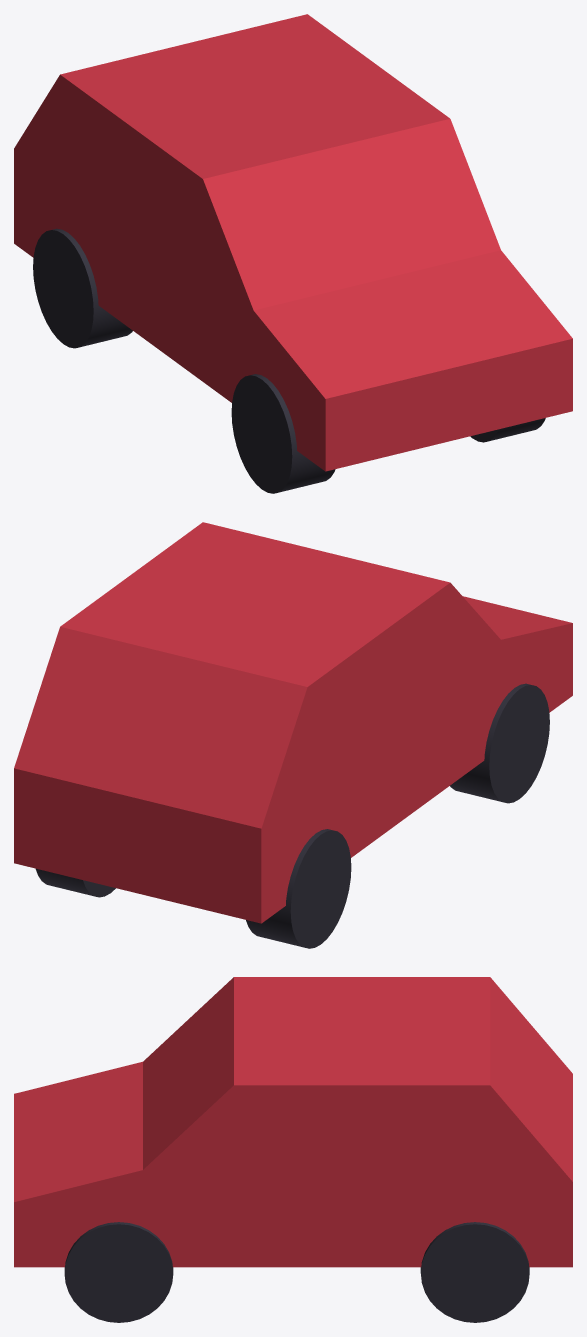
File: Car.fbx
3 views of the same model, one above another, from view 1: azimuth 30°, elevation 25°; view 2: azimuth 150°, elevation 25°; view 3: azimuth 270°, elevation 25° (orthographic). The views are drawn at different scales.
Visible parts, largest first — view 1: Cube, Wheel, Wheel.001, Wheel.003; view 2: Cube, Wheel.001, Wheel, Wheel.002; view 3: Cube, Wheel.003, Wheel.002.
Boxes of the visible parts, box(x1,y1,x2,y2) form: Cube: box(14, 14, 572, 471); Wheel: box(231, 374, 335, 493); Wheel.001: box(33, 228, 132, 348); Wheel.003: box(470, 418, 545, 442); Cube: box(14, 522, 572, 923); Wheel.001: box(246, 829, 351, 948); Wheel: box(450, 683, 549, 803); Wheel.002: box(35, 868, 115, 897); Cube: box(14, 977, 572, 1267); Wheel.003: box(64, 1222, 173, 1322); Wheel.002: box(420, 1222, 529, 1322).
Size of the model in its own units: 2.08 by 2.03 by 4.36.
